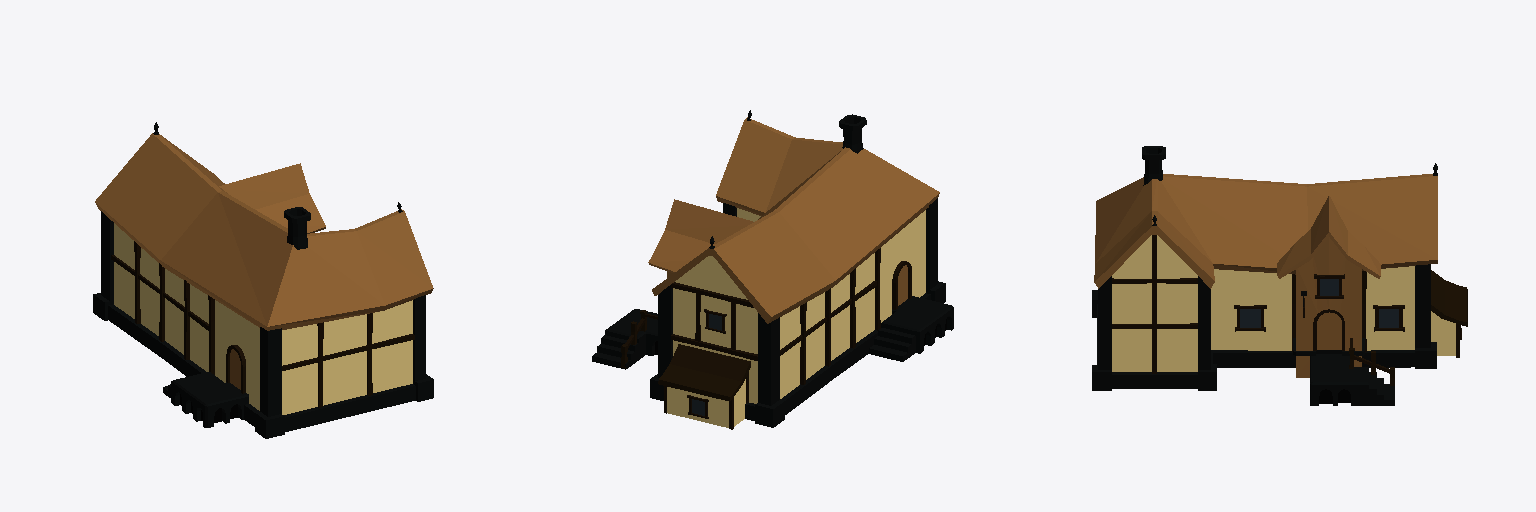
Rendered from SM_Byzantine.obj.
The picture shows the model from 3 angles: view 1: azimuth 30°, elevation 25°; view 2: azimuth 150°, elevation 25°; view 3: azimuth 270°, elevation 25°; orthographic projection.
Visible parts, largest first — view 1: SM_Inn:SM_Inn1; view 2: SM_Inn:SM_Inn1; view 3: SM_Inn:SM_Inn1.
Boxes of the visible parts, <box> form: SM_Inn:SM_Inn1: <box>93,122,433,438</box>; SM_Inn:SM_Inn1: <box>592,110,953,429</box>; SM_Inn:SM_Inn1: <box>1092,146,1467,405</box>.
Bounding box in the file's own units: 18.6 × 14.21 × 25.55.